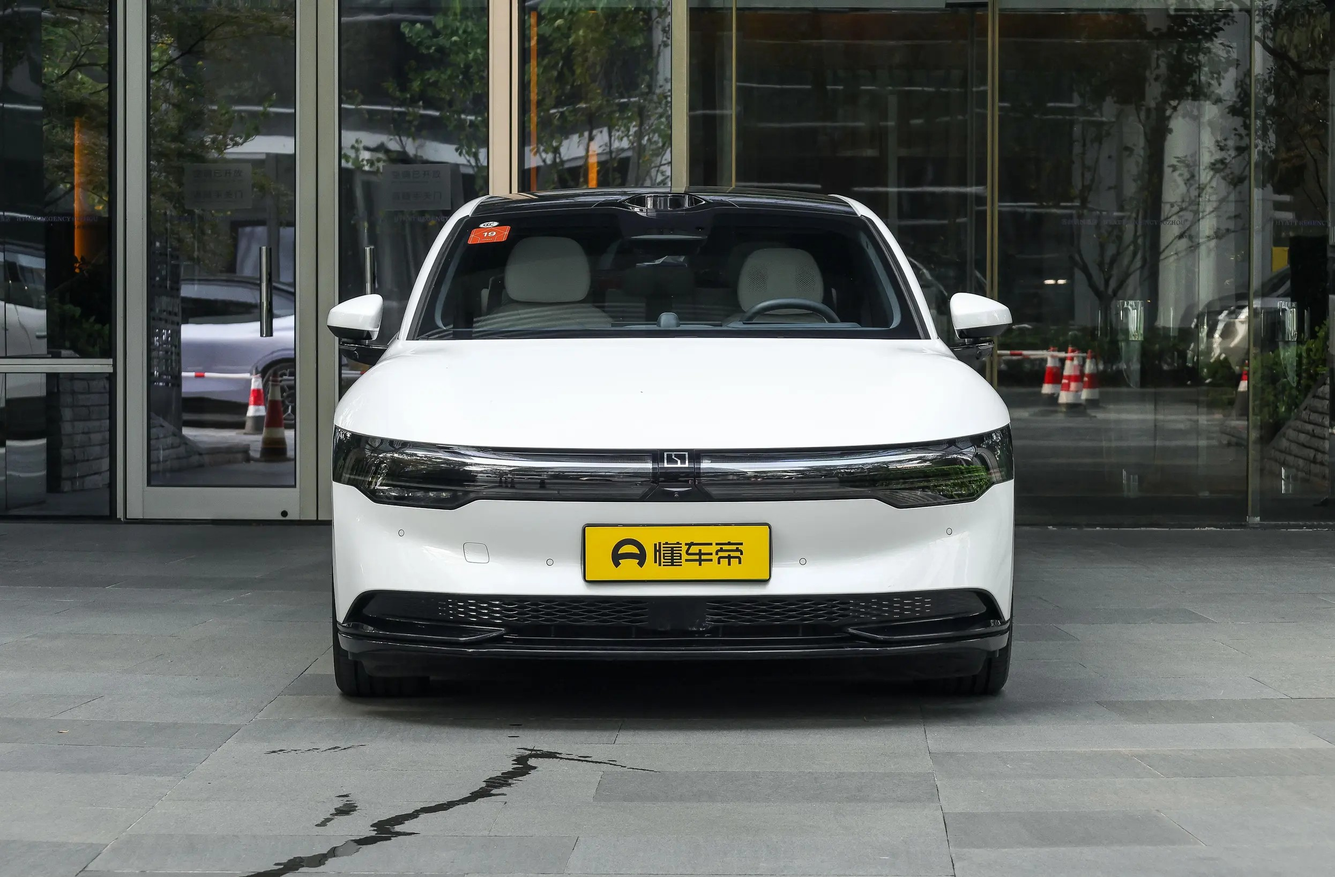ZEEKR: (665, 452, 688, 467)
